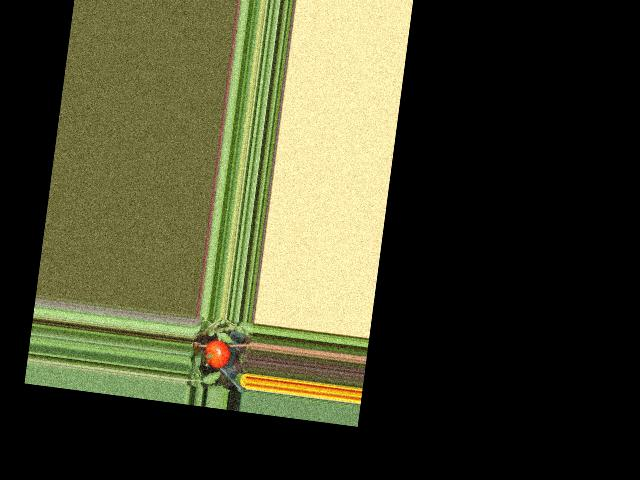tomato: (203, 338, 232, 369)
